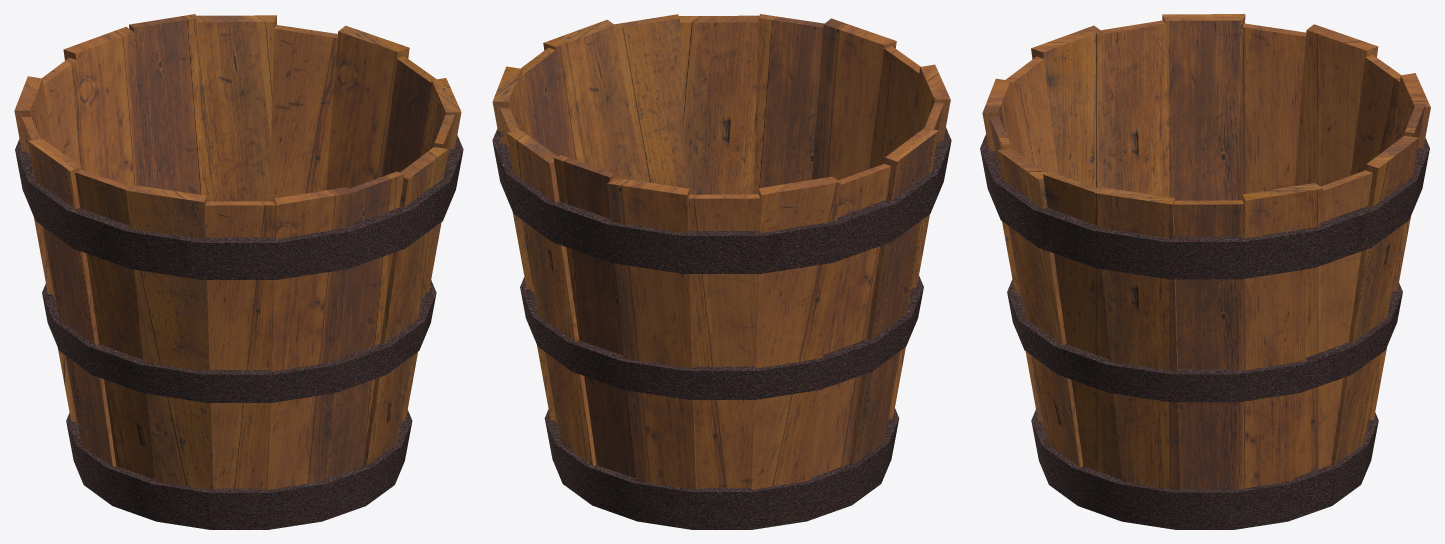
File: bucket.FBX
3 views of the same model, side by side, from view 1: azimuth 30°, elevation 25°; view 2: azimuth 150°, elevation 25°; view 3: azimuth 270°, elevation 25° (orthographic). The views are drawn at different scales.
Visible parts, largest first — view 1: Tube002, Box015, Box018, Tube001, Box030, Box014, Tube005, Box029, Box026, Box011, Box017, Box027 (+9 smaller); view 2: Tube002, Box001, Box009, Tube001, Box002, Tube005, Box021, Box017, Box029, Box020, Box008, Box030 (+9 smaller); view 3: Tube002, Box027, Box024, Tube001, Box012, Box023, Tube005, Box011, Box008, Box020, Box026, Box009 (+9 smaller).
Boxes of the visible parts, x1,y1,x2,y2 form: Tube002: [15, 135, 463, 279]; Box015: [126, 185, 213, 490]; Box018: [266, 187, 354, 489]; Tube001: [66, 410, 412, 529]; Box030: [196, 15, 276, 201]; Box014: [205, 201, 275, 488]; Tube005: [42, 280, 436, 402]; Box029: [129, 14, 202, 194]; Box026: [269, 25, 337, 201]; Box011: [75, 169, 154, 479]; Box017: [325, 171, 404, 478]; Box027: [326, 25, 409, 189]; Tube002: [492, 127, 951, 273]; Box001: [607, 177, 696, 489]; Box009: [750, 176, 840, 489]; Tube001: [544, 408, 899, 529]; Box002: [688, 194, 760, 488]; Tube005: [520, 276, 923, 399]; Box021: [679, 15, 759, 194]; Box017: [753, 14, 824, 194]; Box029: [553, 155, 635, 478]; Box020: [614, 14, 685, 187]; Box008: [811, 164, 891, 477]; Box030: [506, 130, 596, 466]; Tube002: [980, 134, 1429, 279]; Box027: [1234, 183, 1322, 489]; Box024: [1094, 187, 1181, 490]; Tube001: [1031, 410, 1378, 529]; Box012: [1162, 14, 1245, 200]; Box023: [1173, 200, 1243, 488]; Tube005: [1007, 279, 1402, 402]; Box011: [1101, 20, 1170, 197]; Box008: [1237, 23, 1306, 200]; Box020: [1043, 172, 1121, 479]; Box026: [1293, 170, 1372, 477]; Box009: [1294, 24, 1378, 186].
Size of the model in its own units: 22.98 by 20.44 by 23.38.
2 materials, 2 textured.
